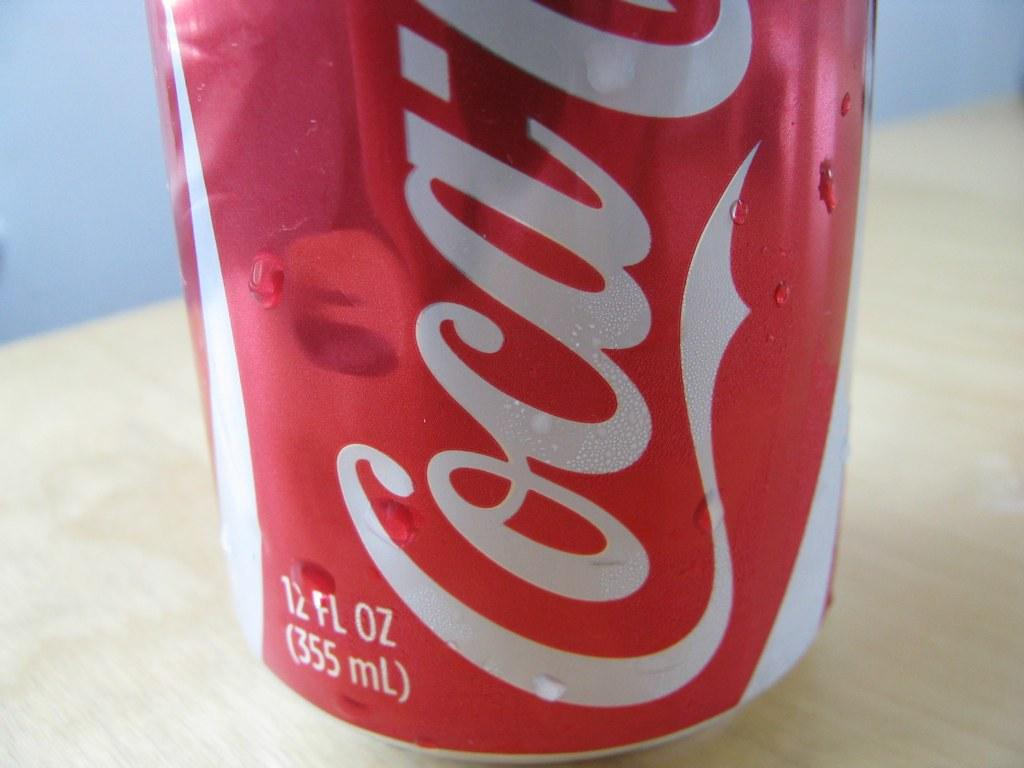metal: (147, 0, 875, 760)
